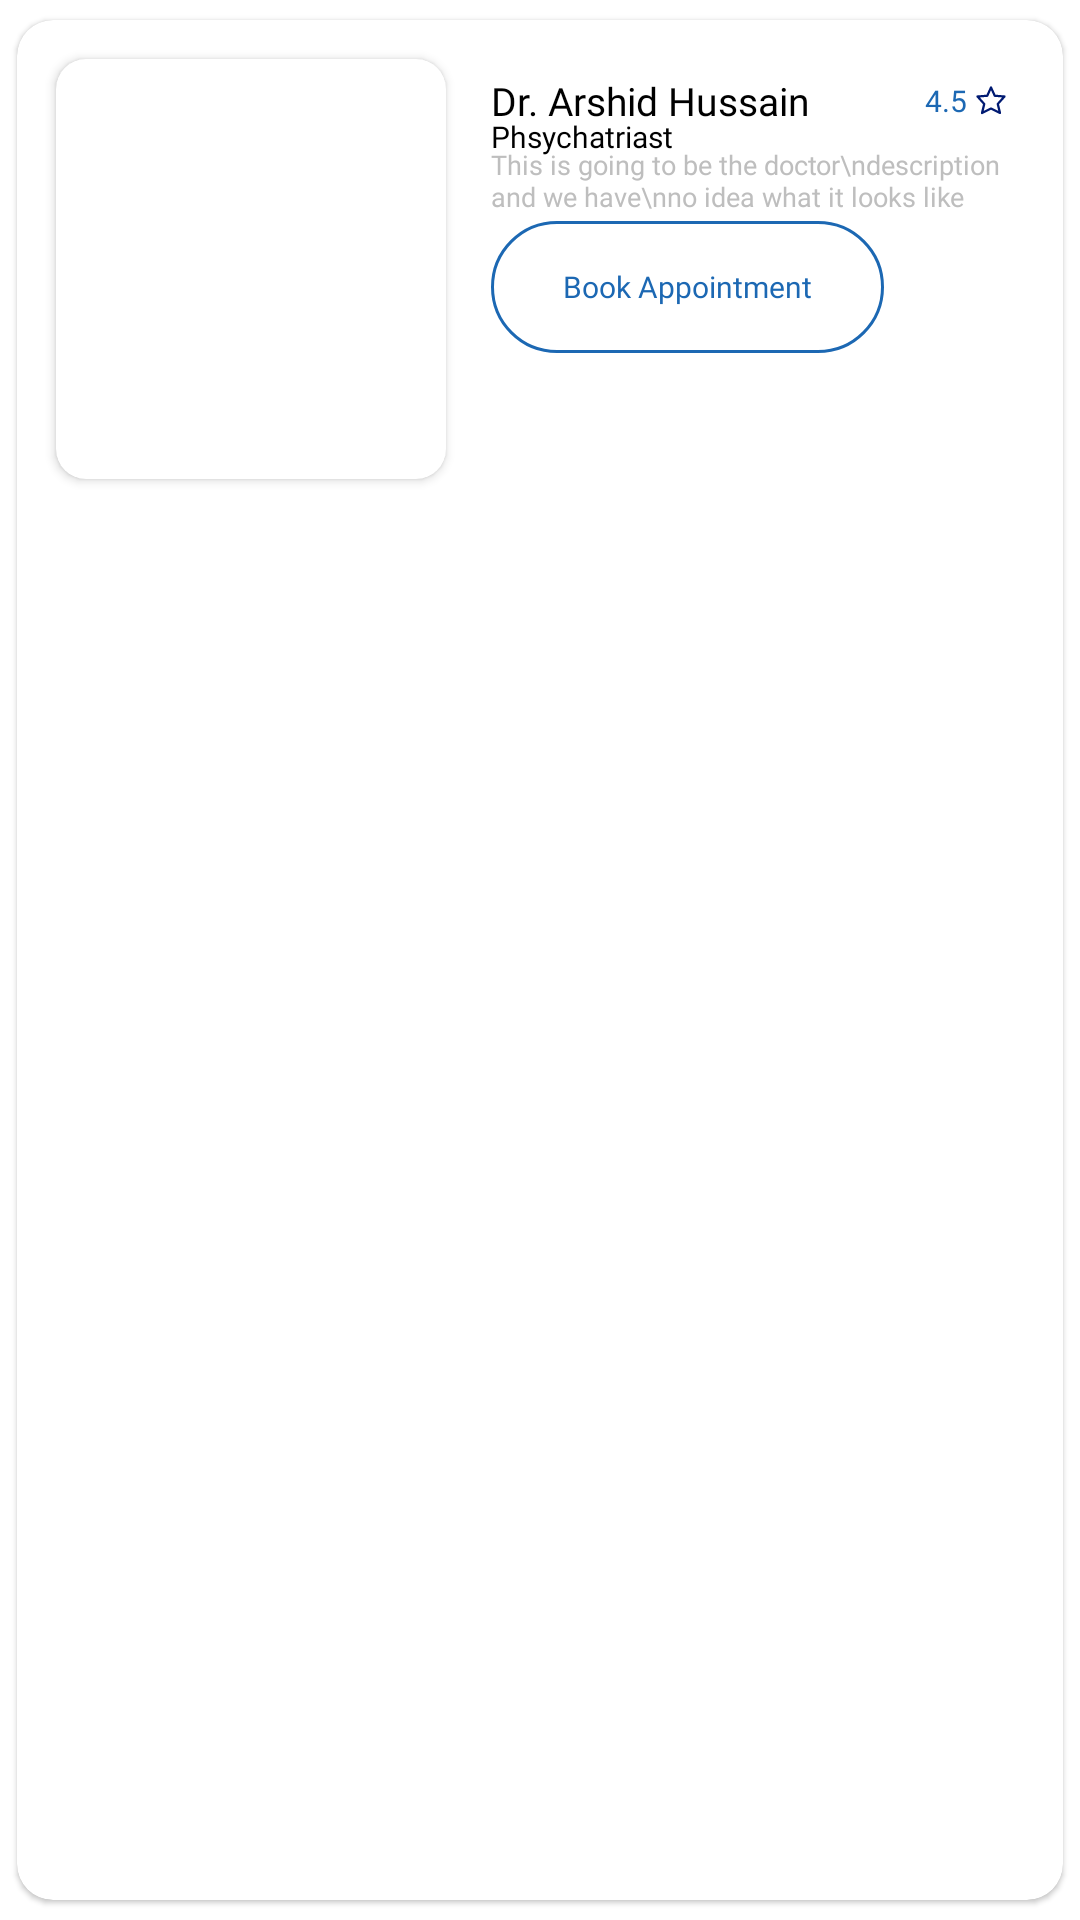

Screen size 1080px x 1920px. Icon name, then its box in pixels as region(x1, y1, x2, y2):
star: region(976, 86, 1006, 114)
